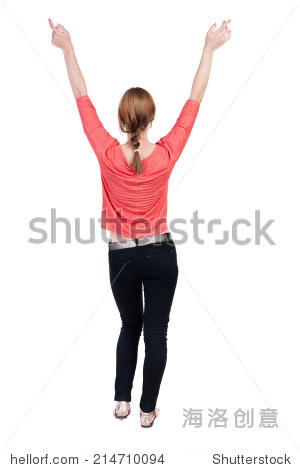handsup: (46, 13, 255, 428)
